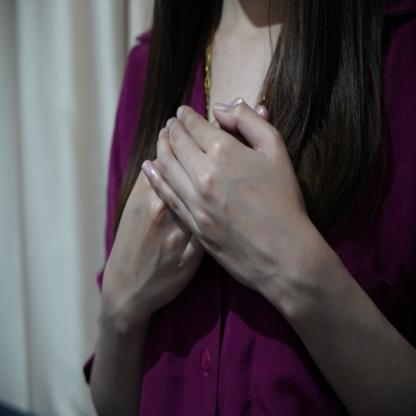Grieve: (96, 86, 325, 338)
